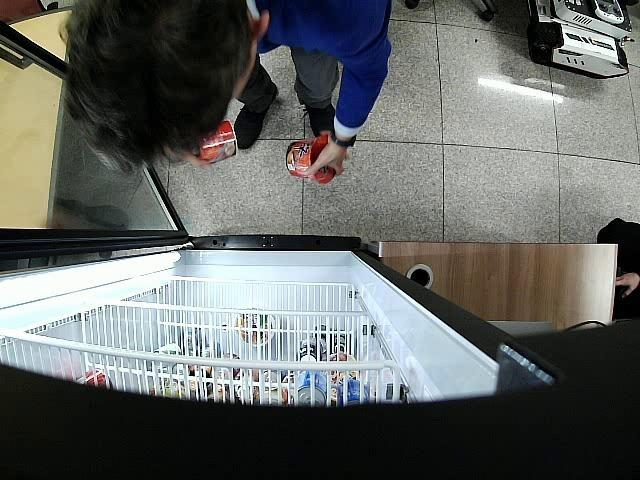01_ShinRamen_L: (286, 136, 336, 185), (192, 122, 238, 162)
